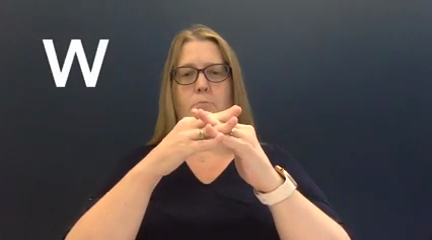W: (149, 103, 272, 182)
